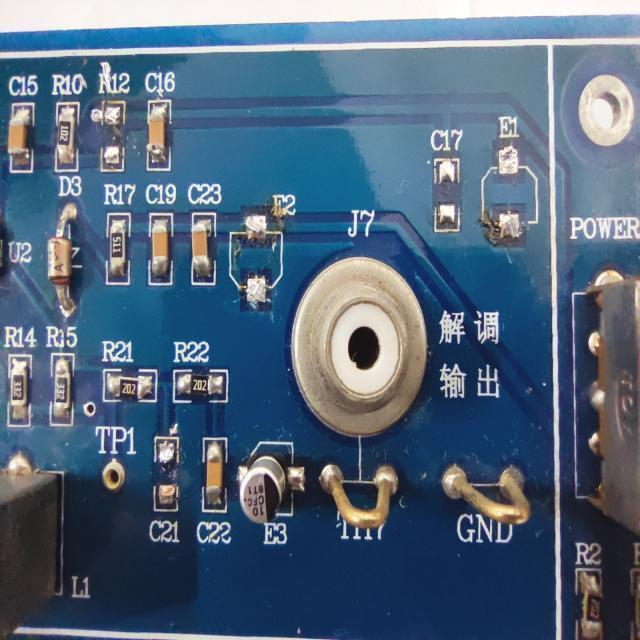Missing component: (225, 188, 298, 306), (480, 114, 541, 236), (147, 433, 183, 544), (430, 126, 466, 236), (95, 72, 131, 175)
